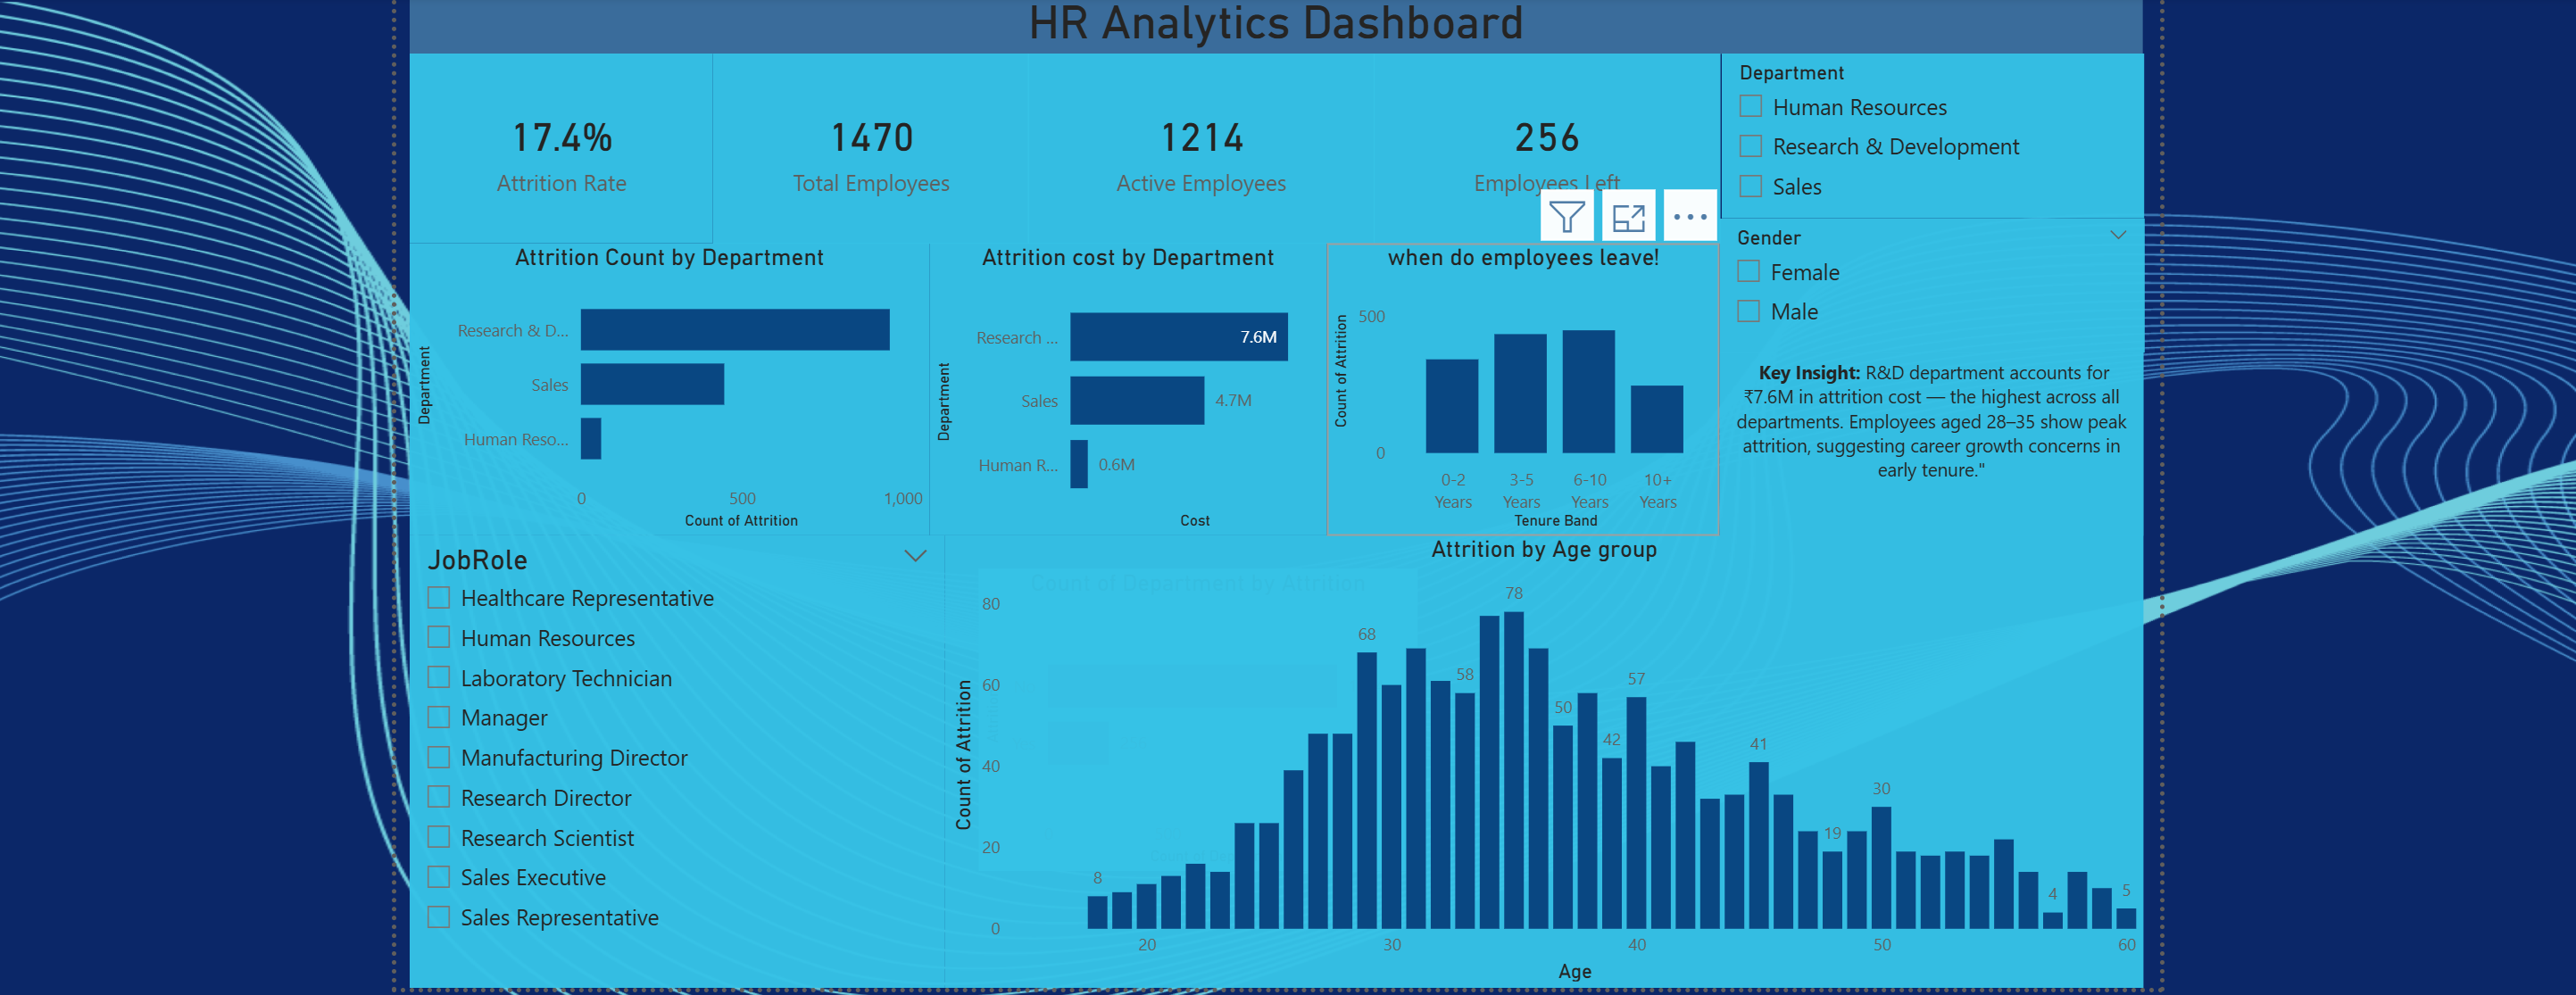

The page's visual inventory and layout, read from the dashboard file:
{"tool":"powerbi","page":{"name":"Page 1","canvas":[1280,720],"ordinal":0},"visuals":[{"type":"shape","title":"HR Analytics Dashboard","box":[10.1,0,1257.3,42.6],"z":0},{"type":"card","fields":{"Values":["Sheet1.Attrition Rate"]},"box":[9.7,42.1,220.1,137.6],"z":2},{"type":"clusteredBarChart","fields":{"Category":["Sheet1.Attrition"],"Y":["CountNonNull(Sheet1.Department)"]},"box":[421.8,415.7,318.4,219],"z":3},{"type":"clusteredColumnChart","title":" Attrition by Age group","fields":{"Category":["Sheet1.Age"],"Y":["CountNonNull(Sheet1.Attrition)"]},"box":[398.2,391.7,869.3,328.6],"z":4},{"type":"slicer","fields":{"Values":["Sheet1.Gender"]},"box":[959.2,162.2,308.2,97.3],"z":5},{"type":"slicer","fields":{"Values":["Sheet1.JobRole"]},"box":[9.7,391.7,388.5,328.6],"z":7},{"type":"card","fields":{"Values":["Sheet1.Total Employees"]},"box":[229.2,42.6,229.2,137.9],"z":8},{"type":"card","fields":{"Values":["Sheet1.Employees Left"]},"box":[709.8,42.6,251.5,137.9],"z":9},{"type":"card","fields":{"Values":["Sheet1.Active Employees"]},"box":[458.3,42.6,251.5,137.9],"z":10},{"type":"clusteredBarChart","title":"Attrition Count by Department","fields":{"Category":["Sheet1.Department"],"Y":["CountNonNull(Sheet1.Attrition)"]},"box":[9.7,179.7,377.2,212.1],"z":11},{"type":"clusteredBarChart","title":" Attrition cost by Department","fields":{"Category":["Sheet1.Department"],"Y":["Sum(Sheet1.Attrition cost)"]},"box":[386.9,179.7,288.1,212.1],"z":13},{"type":"slicer","fields":{"Values":["Sheet1.Department"]},"box":[961.2,42.6,306.2,119.6],"z":14},{"type":"clusteredColumnChart","title":"when do employees leave!","fields":{"Category":["Sheet1.Tenure Band"],"Y":["CountNonNull(Sheet1.Attrition)"]},"box":[675,179.7,284.9,212.1],"z":15},{"type":"textbox","box":[959.9,259,307.6,132.7],"z":16}]}

Visuals, with their boxes on the page's 1280x720 design canvas (x1, y1, x2, y2). These are canvas units, not pixel positions in the 2576x995 screenshot, which may show the page scaled, cropped or inside an application window:
"HR Analytics Dashboard" shape: (x1=10, y1=0, x2=1267, y2=43)
card - Sheet1.Attrition Rate: (x1=10, y1=42, x2=230, y2=180)
clusteredBarChart - Sheet1.Attrition x CountNonNull(Sheet1.Department): (x1=422, y1=416, x2=740, y2=635)
" Attrition by Age group" clusteredColumnChart: (x1=398, y1=392, x2=1268, y2=720)
slicer - Sheet1.Gender: (x1=959, y1=162, x2=1267, y2=260)
slicer - Sheet1.JobRole: (x1=10, y1=392, x2=398, y2=720)
card - Sheet1.Total Employees: (x1=229, y1=43, x2=458, y2=180)
card - Sheet1.Employees Left: (x1=710, y1=43, x2=961, y2=180)
card - Sheet1.Active Employees: (x1=458, y1=43, x2=710, y2=180)
"Attrition Count by Department" clusteredBarChart: (x1=10, y1=180, x2=387, y2=392)
" Attrition cost by Department" clusteredBarChart: (x1=387, y1=180, x2=675, y2=392)
slicer - Sheet1.Department: (x1=961, y1=43, x2=1267, y2=162)
"when do employees leave!" clusteredColumnChart: (x1=675, y1=180, x2=960, y2=392)
textbox: (x1=960, y1=259, x2=1268, y2=392)
